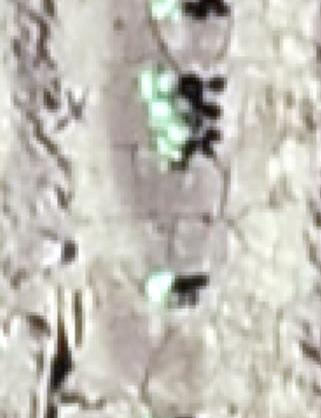cotton: (157, 129, 185, 162), (141, 70, 175, 96), (147, 269, 174, 299), (151, 100, 184, 124), (152, 1, 181, 19)
